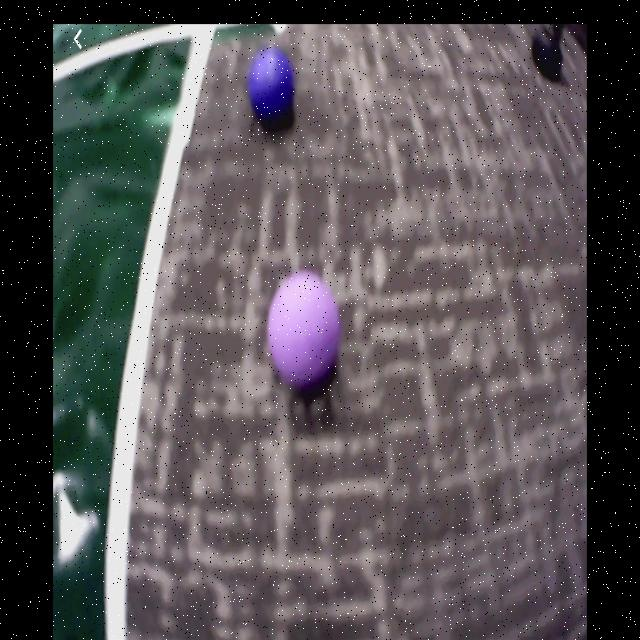ball: (268, 274, 337, 387), (248, 50, 295, 124)
